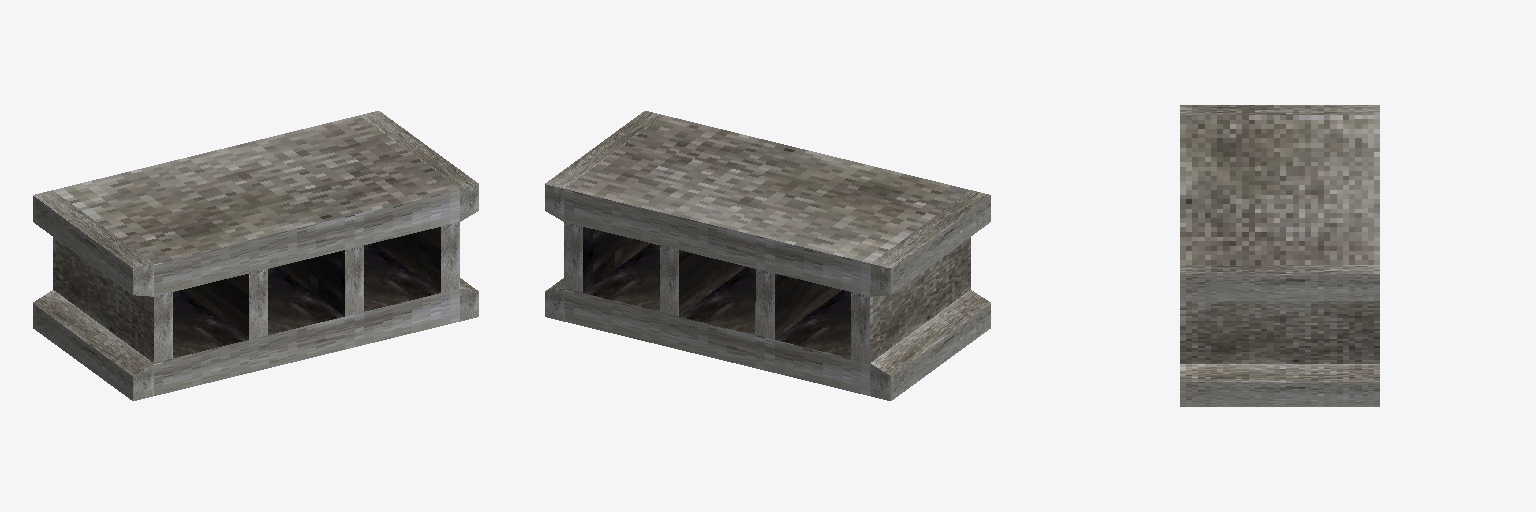
The picture shows the model from 3 angles: view 1: azimuth 30°, elevation 25°; view 2: azimuth 150°, elevation 25°; view 3: azimuth 270°, elevation 25°; orthographic projection.
Parts seen in each view (by area): view 1: Cube_Cube.001; view 2: Cube_Cube.001; view 3: Cube_Cube.001.
Part boxes in pixels (bbox=[...]): Cube_Cube.001: bbox=[33, 111, 478, 400]; Cube_Cube.001: bbox=[545, 111, 990, 400]; Cube_Cube.001: bbox=[1180, 105, 1379, 406].
Bounding box in the file's own units: 0.6413 × 0.2349 × 0.322.
Materials: 1 (1 with a texture image).